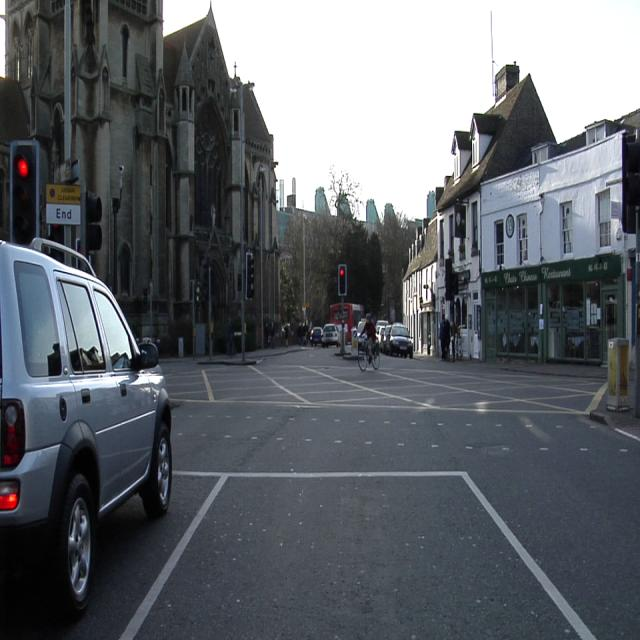Bicyclist: (358, 313, 380, 372)
Building: (6, 0, 280, 353), (480, 110, 640, 362), (435, 65, 552, 358), (402, 213, 438, 354)
Car: (0, 242, 171, 615), (386, 323, 412, 358), (321, 323, 340, 348), (310, 327, 322, 346)
Road: (0, 348, 640, 638)
Tree: (329, 167, 359, 219)
